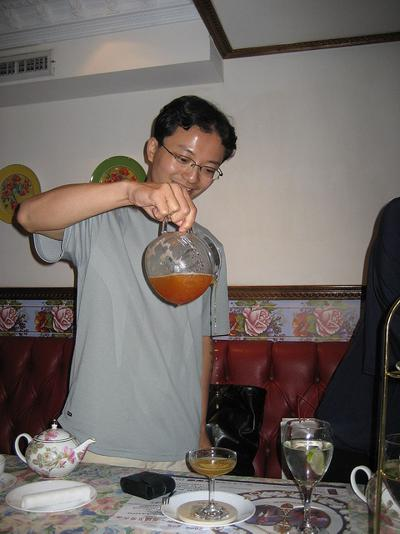person: (16, 97, 238, 475)
